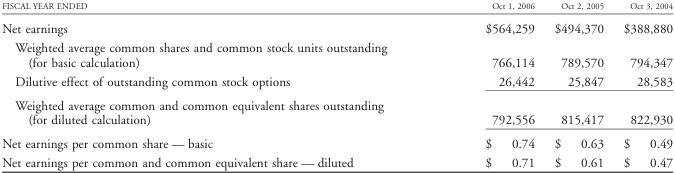table: (1, 0, 672, 169)
table column: (1, 0, 435, 169), (435, 0, 543, 169), (543, 0, 612, 169), (612, 0, 672, 169)
table column header: (1, 0, 672, 15)
table row: (1, 92, 672, 131), (1, 37, 672, 71), (1, 15, 672, 37), (1, 71, 672, 92), (1, 131, 672, 152), (1, 152, 672, 169), (1, 0, 672, 15)
